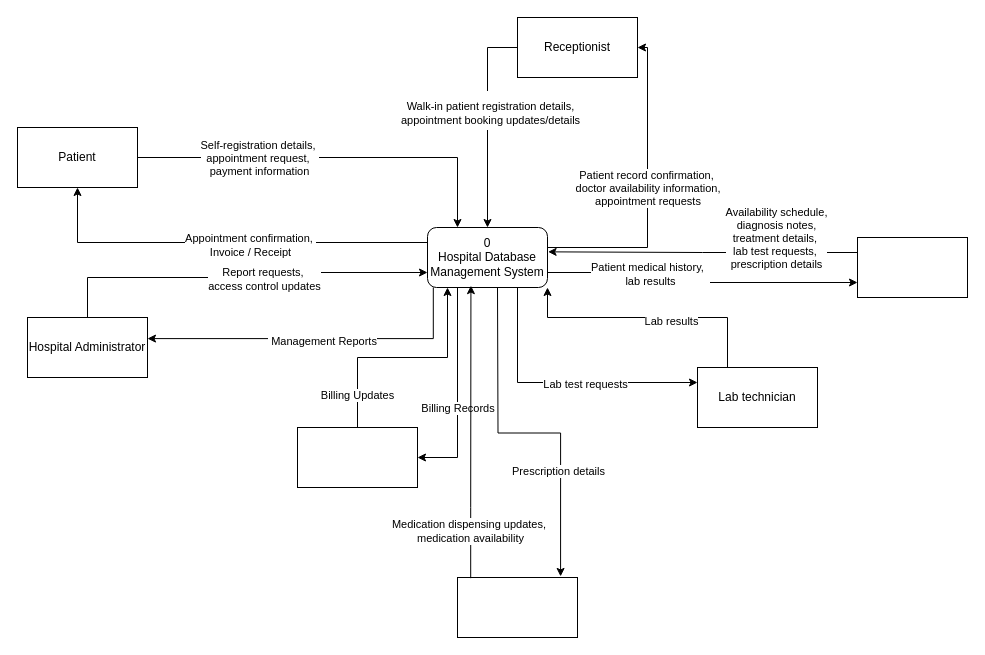
This 985x655 diagram has some shape labels left out. Here are the shapes that lost their labels. From the top down, the centre of each, then its label:
[912,267]: Doctor
[357,457]: Billing Office
[517,607]: Pharmacist
